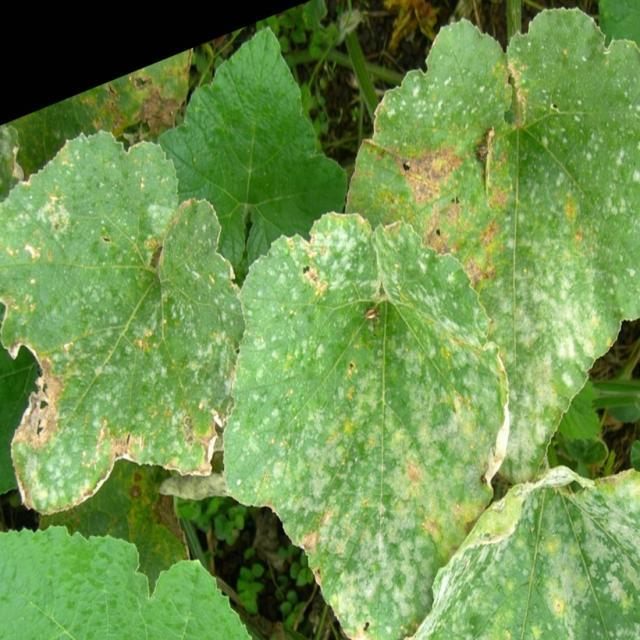Leaf_Mold: (355, 6, 640, 475), (206, 250, 511, 640), (0, 133, 242, 494), (384, 456, 640, 640)
